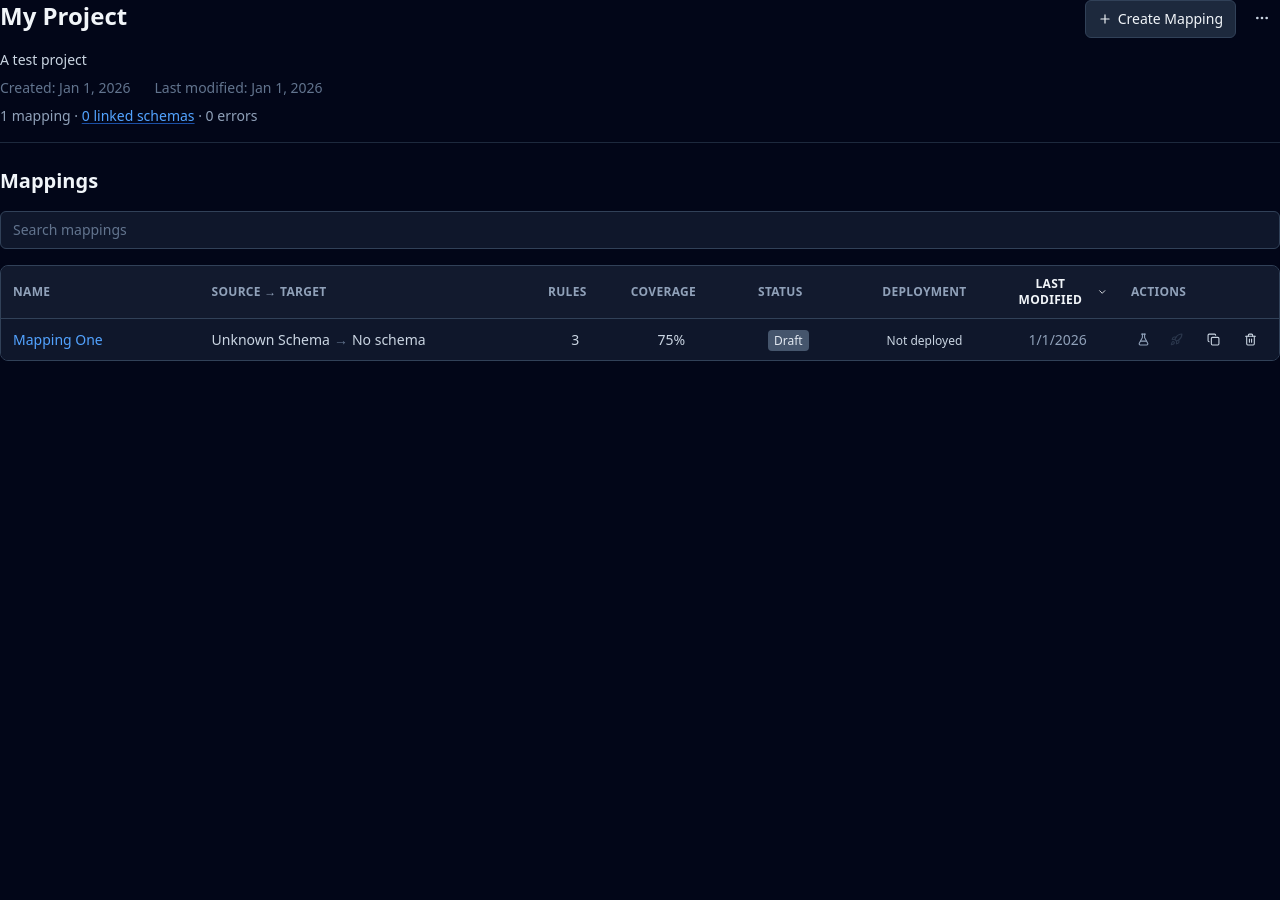
ProjectOverviewPage › linked schemas dialog empty state remains informational and read-only
Click the button with test id "linked-schemas-trigger". click: [138, 116]
box: [82, 106, 195, 126]
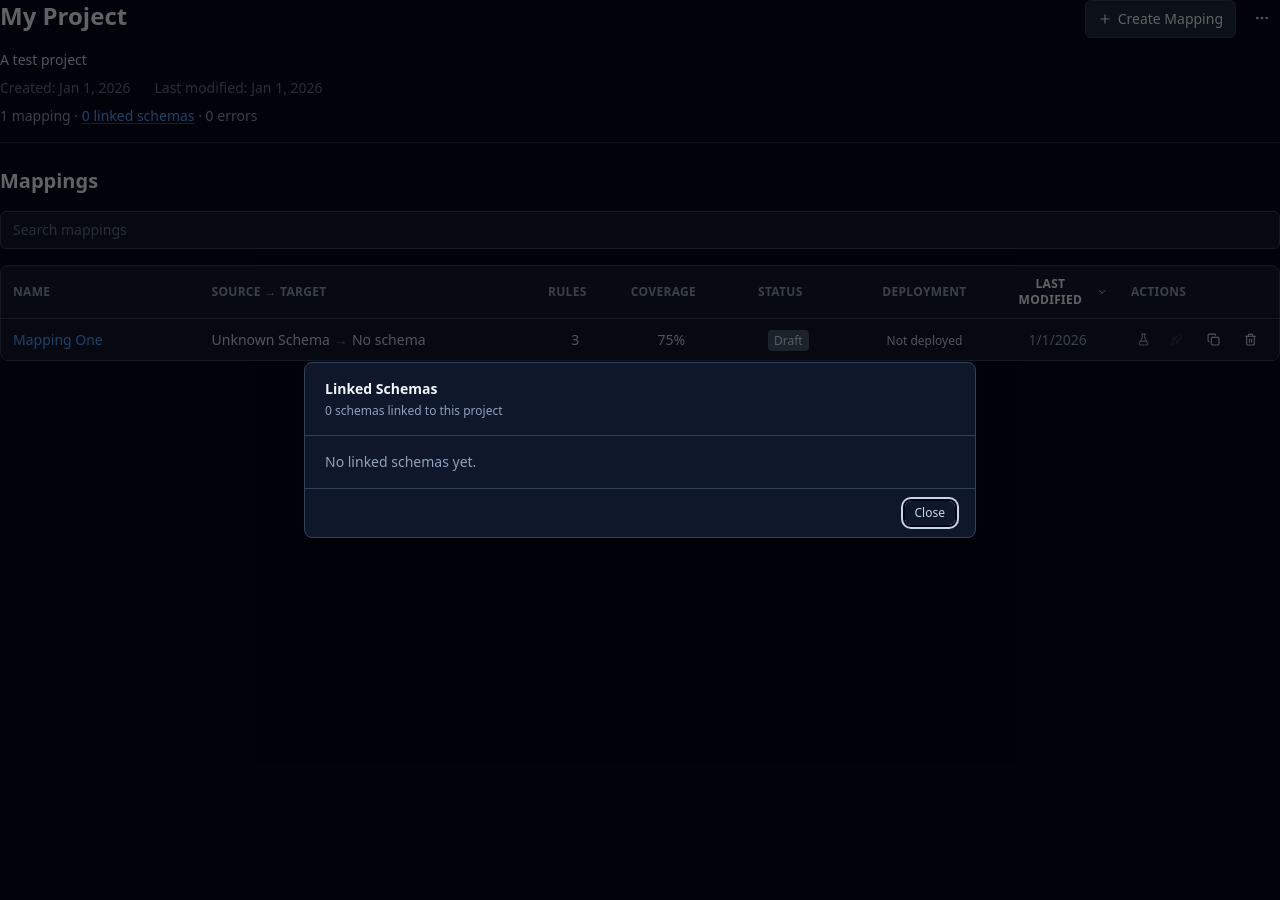
expect the text "No linked schemas yet." is shown: met, box [325, 452, 476, 471]
